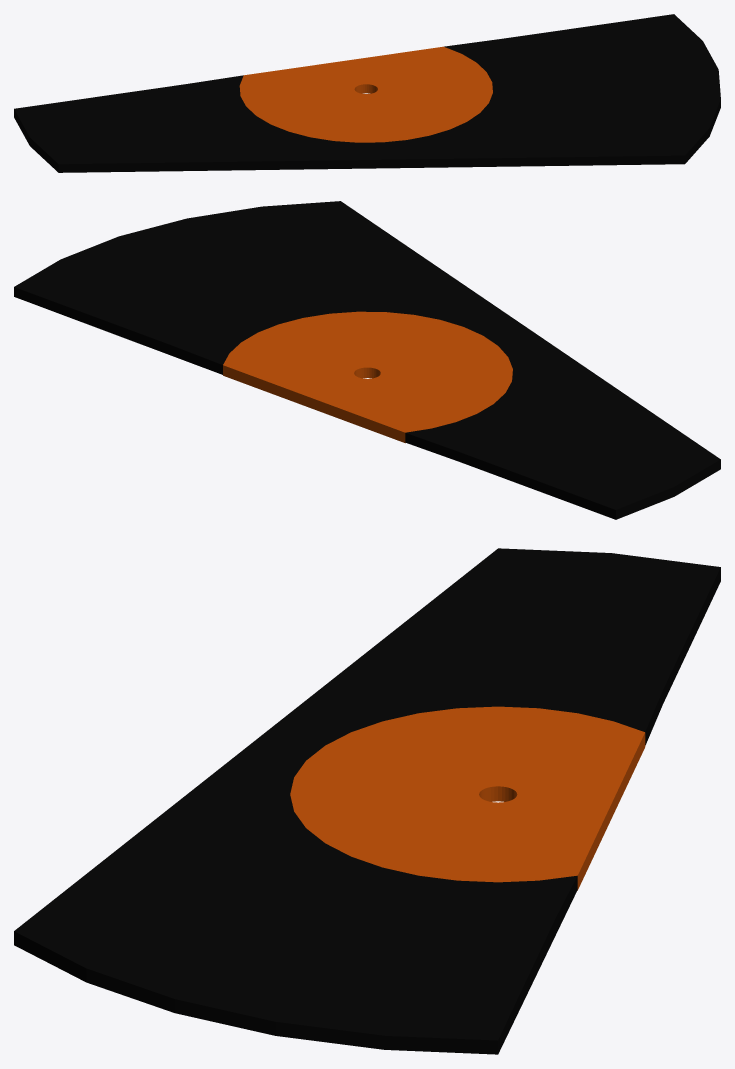
3 renders of one model, top to bottom at view 1: azimuth 30°, elevation 25°; view 2: azimuth 150°, elevation 25°; view 3: azimuth 270°, elevation 25°, orthographic. The views are drawn at different scales.
Visible parts, largest first — view 1: l; view 2: l; view 3: l.
Boxes of the visible parts, left/top/right/bottom form: l: left=14, top=14, right=720, bottom=172; l: left=14, top=201, right=720, bottom=519; l: left=14, top=548, right=720, bottom=1054.
Bounding box in the file's own units: 60 × 0.853 × 36.42.
